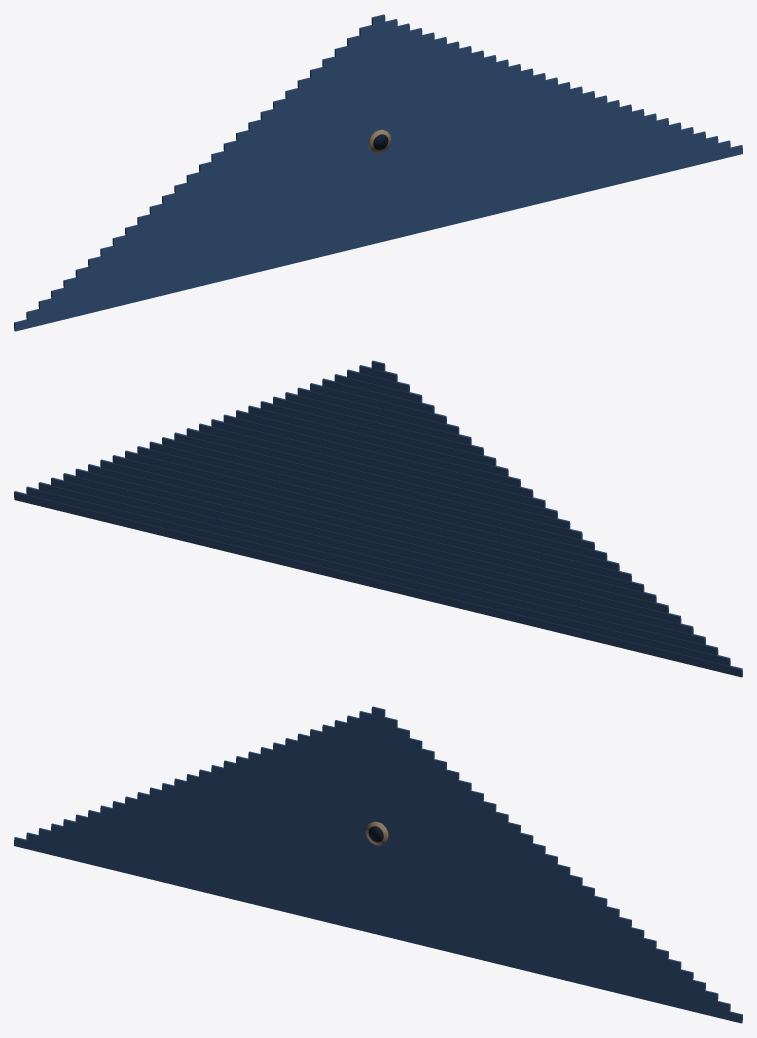
Rendered from kit_clapboard_gable_w11.glb.
3 renders of one model, top to bottom at view 1: azimuth 30°, elevation 25°; view 2: azimuth 150°, elevation 25°; view 3: azimuth 330°, elevation 25°, orthographic.
Visible parts, largest first — view 1: kit_clapboard_gable_w11; view 2: kit_clapboard_gable_w11; view 3: kit_clapboard_gable_w11.
Boxes of the visible parts, left/top/right/bottom form: kit_clapboard_gable_w11: left=14, top=14, right=742, bottom=331; kit_clapboard_gable_w11: left=14, top=360, right=742, bottom=677; kit_clapboard_gable_w11: left=14, top=706, right=742, bottom=1023.
Size of the model in its own units: 10.82 by 3.21 by 0.082.
